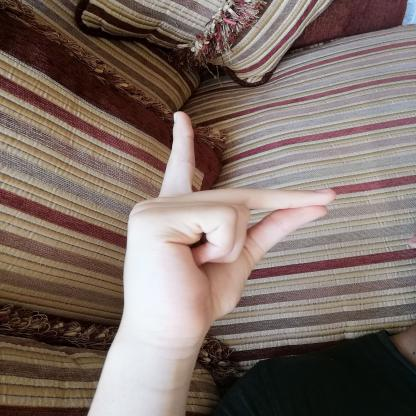TAA: (110, 103, 349, 341)
